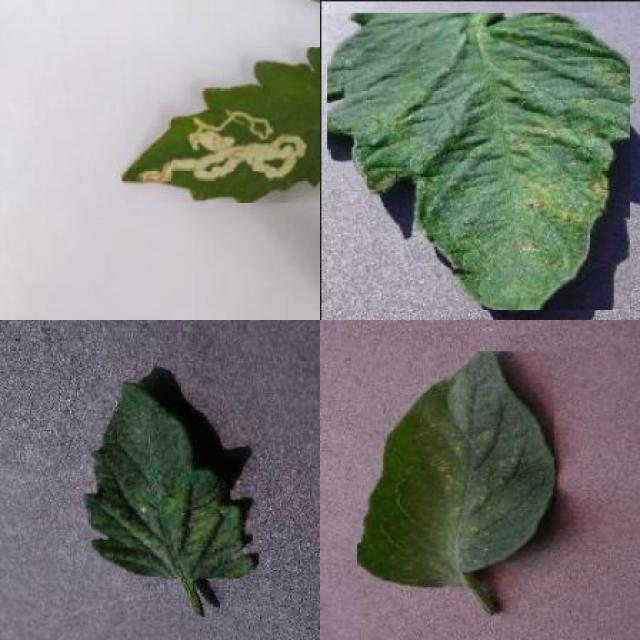Leaf Miner: (121, 47, 320, 203)
Mosaic Virus: (82, 378, 259, 578)
Septoria: (327, 13, 630, 310)
Spider Mites: (358, 352, 555, 588)
